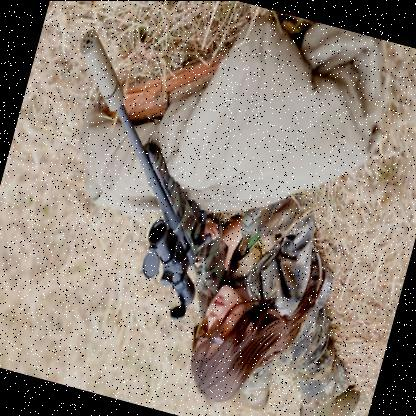rifle: (17, 26, 288, 334)
